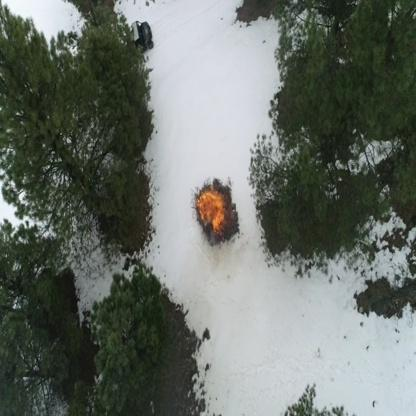Fire: (196, 186, 229, 238)
